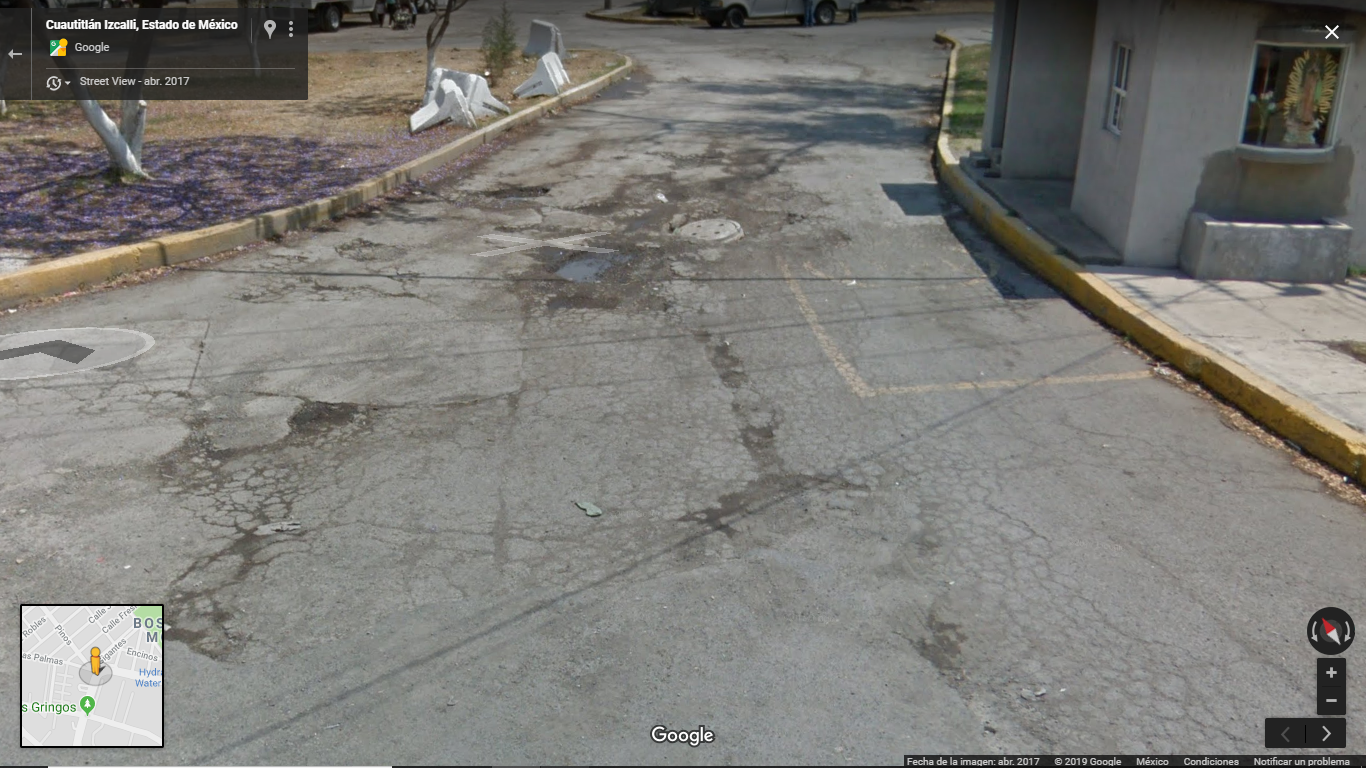pothole: (255, 377, 394, 471), (740, 196, 809, 248), (549, 245, 618, 294), (473, 176, 554, 208)
